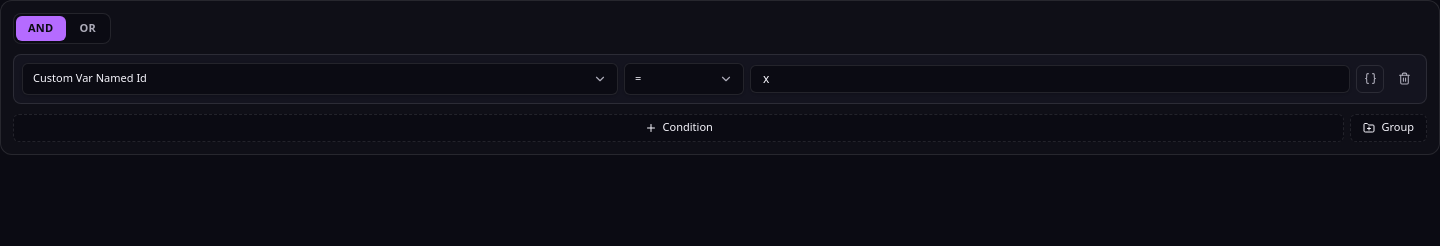
Scenario: FilterBuilder field picker › does not offer a stray duplicate when a real field happens to share a system field's name
Press the mouse on the dropdown labelled "Custom Var Named Id" at [90, 78], box [22, 62, 618, 94]
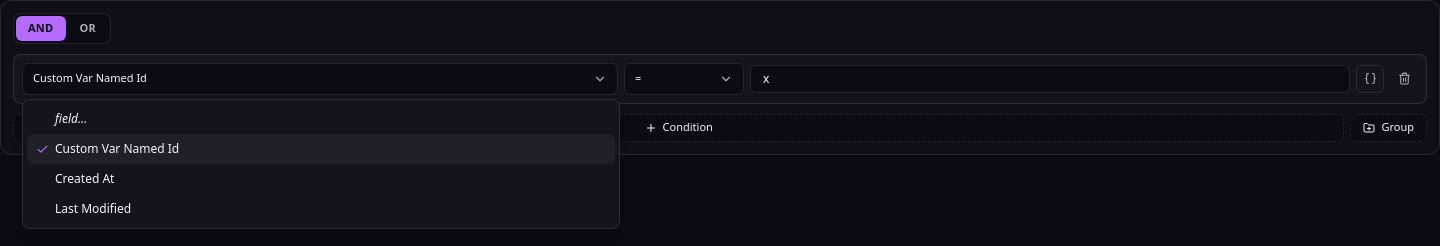
Now the option "Custom Var Named Id" is shown, box [27, 134, 615, 164]
